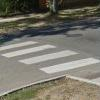Crosswalk: (6, 32, 94, 76)
